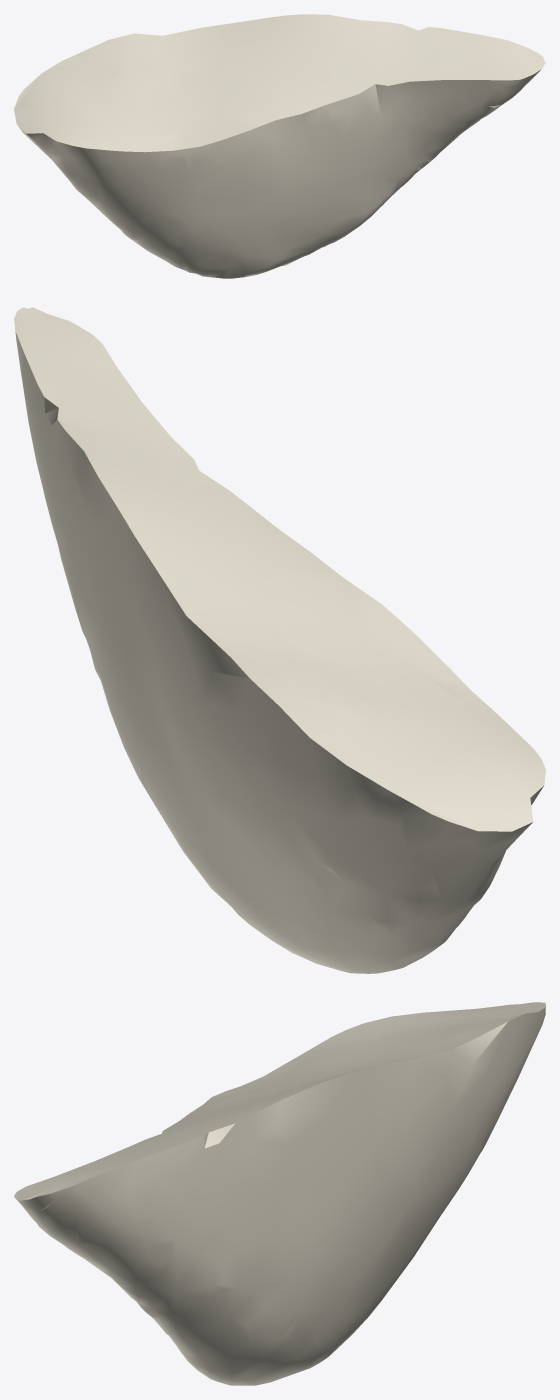
The model's file is fma13317_mm1528.glb.
3 views of the same model, one above another, from view 1: azimuth 30°, elevation 25°; view 2: azimuth 150°, elevation 25°; view 3: azimuth 270°, elevation 25° (orthographic). The views are drawn at different scales.
Visible parts, largest first — view 1: FMA13317_MM1528; view 2: FMA13317_MM1528; view 3: FMA13317_MM1528.
Boxes of the visible parts, box(x1,y1,x2,y2) form: FMA13317_MM1528: box(14, 14, 545, 278); FMA13317_MM1528: box(14, 307, 545, 973); FMA13317_MM1528: box(14, 1002, 545, 1385).
Bounding box in the file's own units: 0.0214 × 0.0119 × 0.0157.
